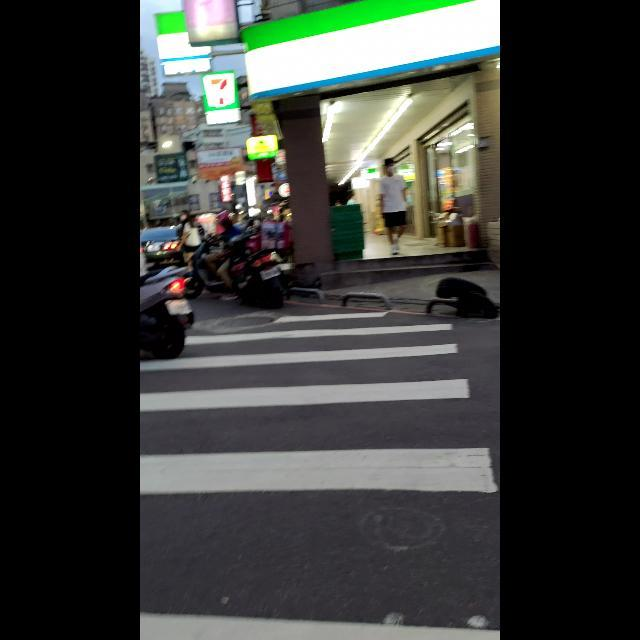sidewalk: (140, 311, 499, 640)
